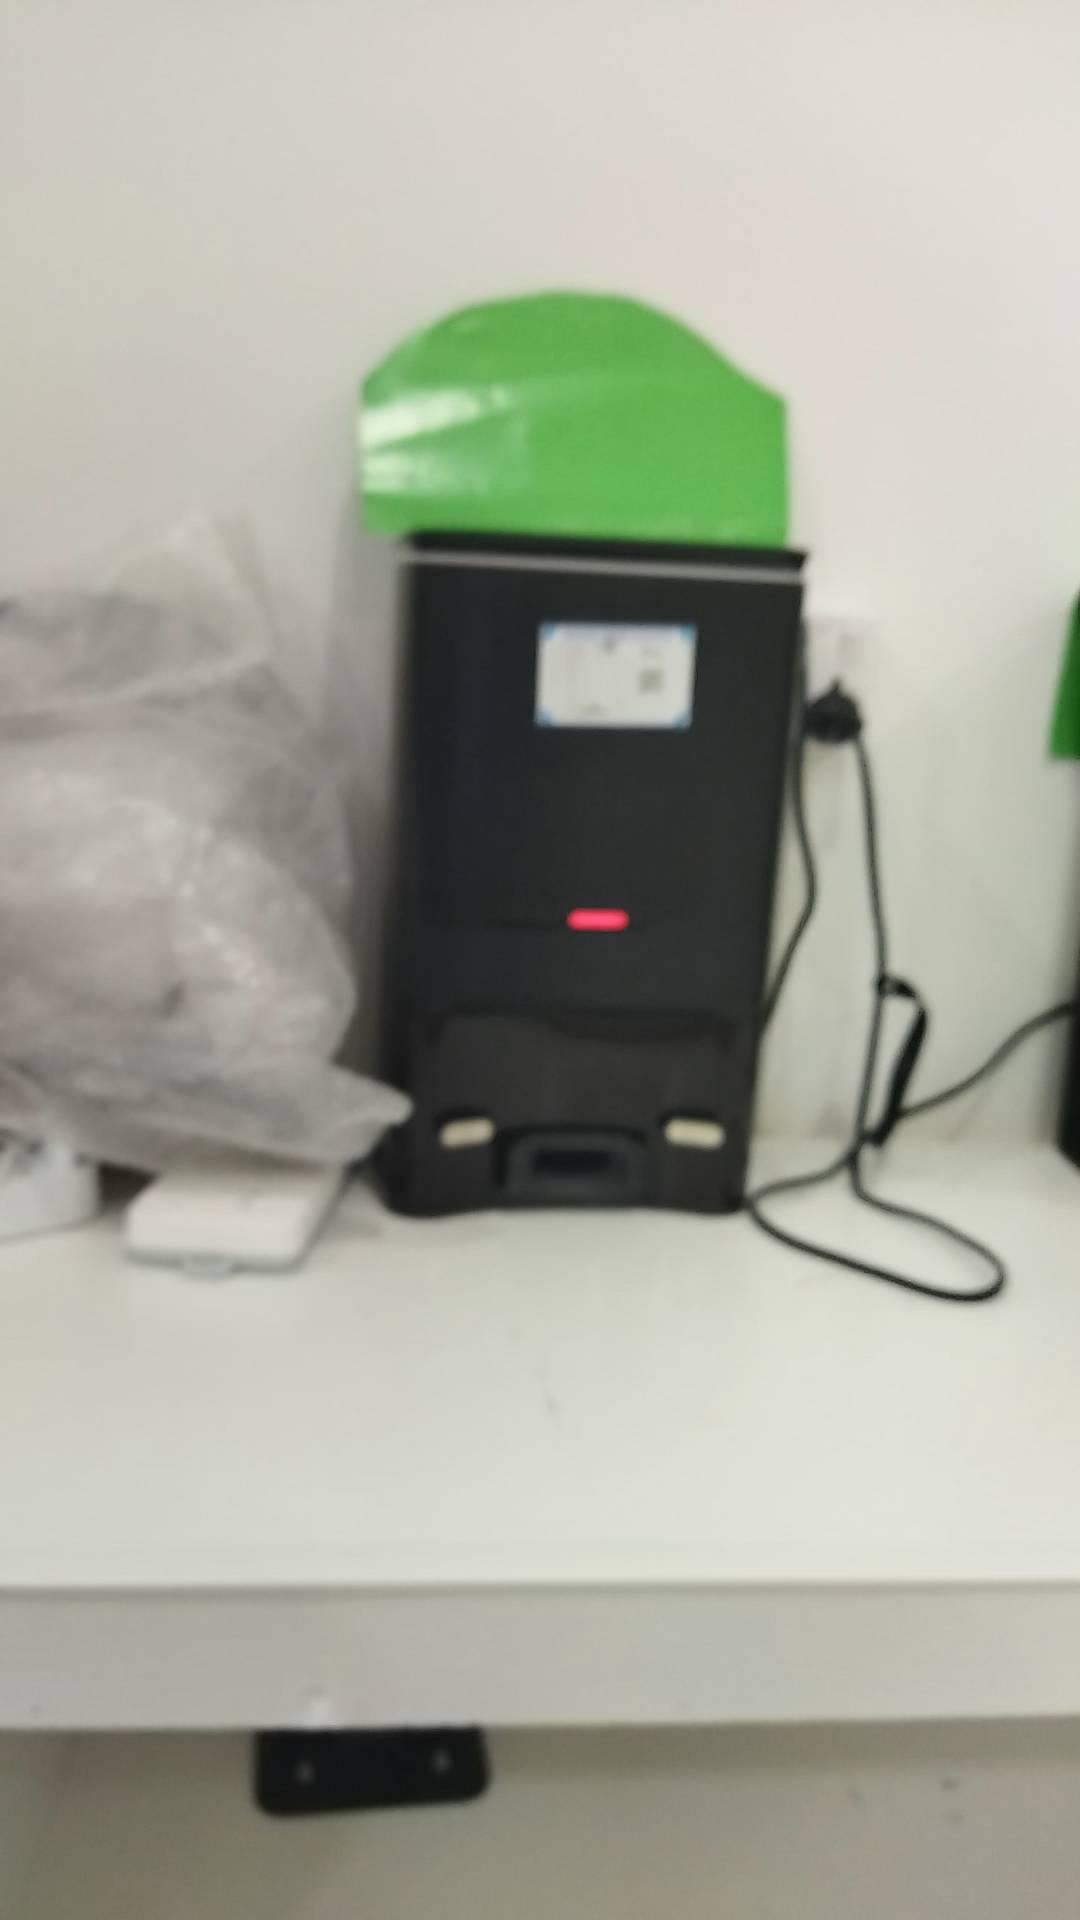dust collecting barrel: (375, 531, 811, 1224)
